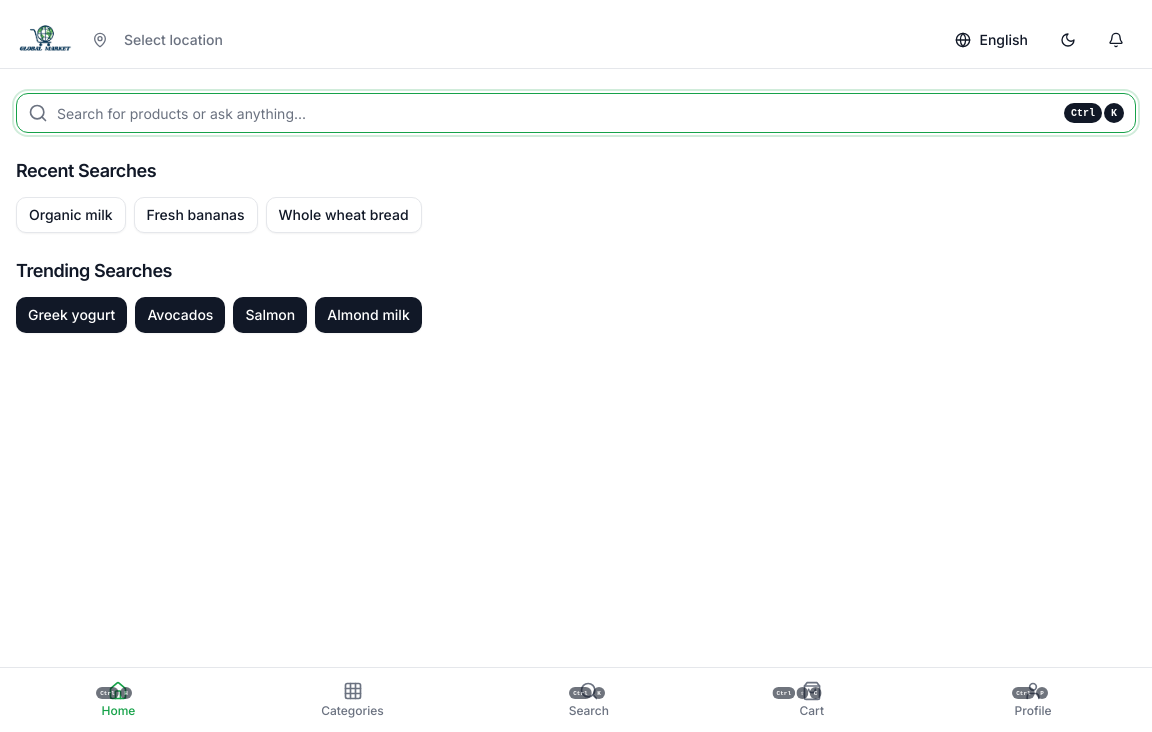
Scenario: SearchPage › shows AI suggestions button when query entered
In the search field with placeholder "Search for products or ask anything...": (576, 113) 16,93 -> 1136,133, type "organic vegetables"
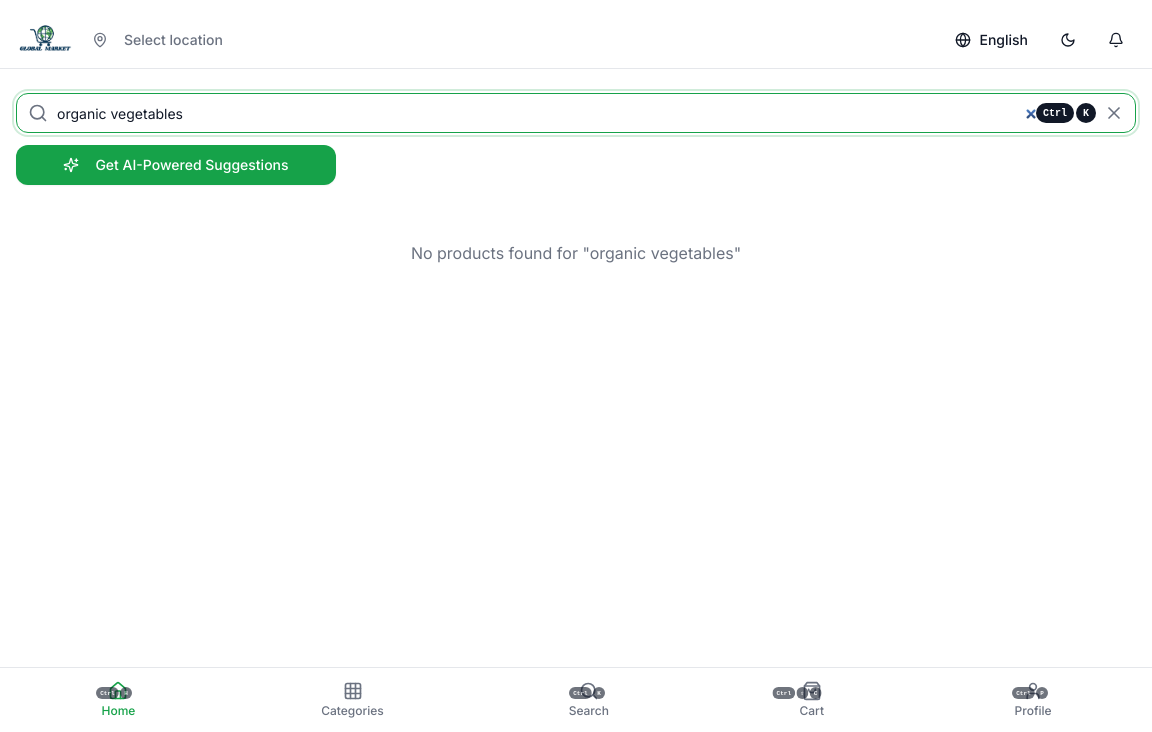
Expected: the button "Get AI-Powered Suggestions" is shown, 16,145 -> 336,185
